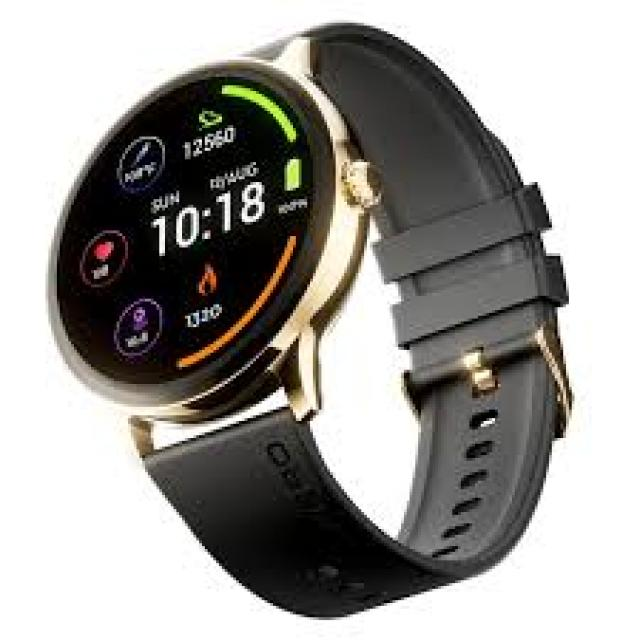objects: (51, 23, 569, 614)
